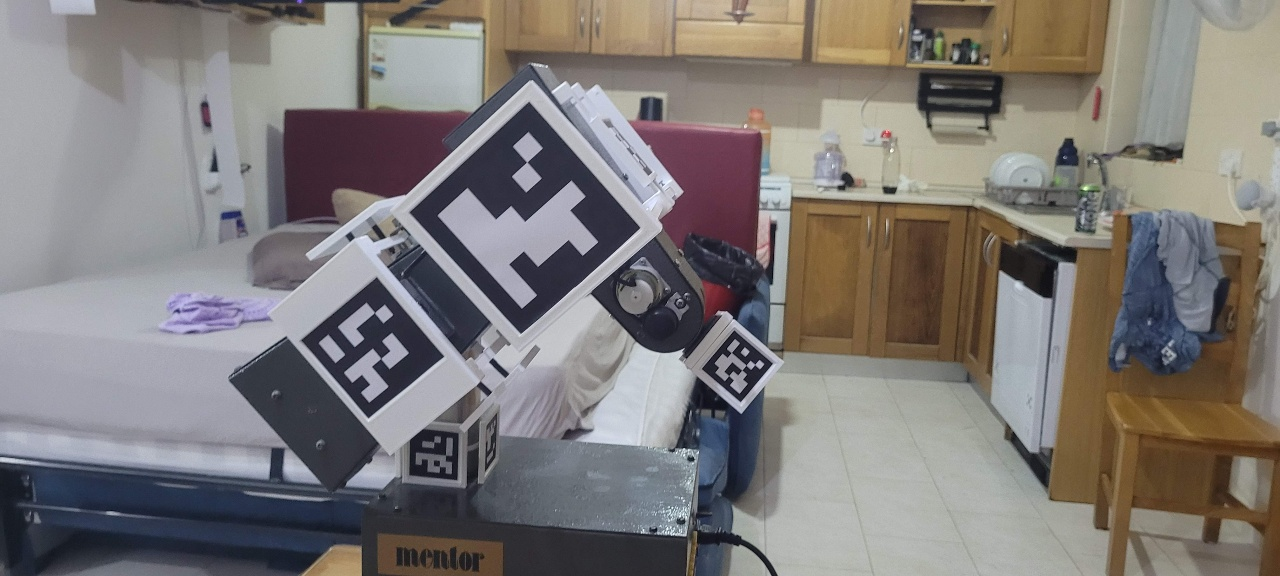Robot: (227, 62, 788, 499)
